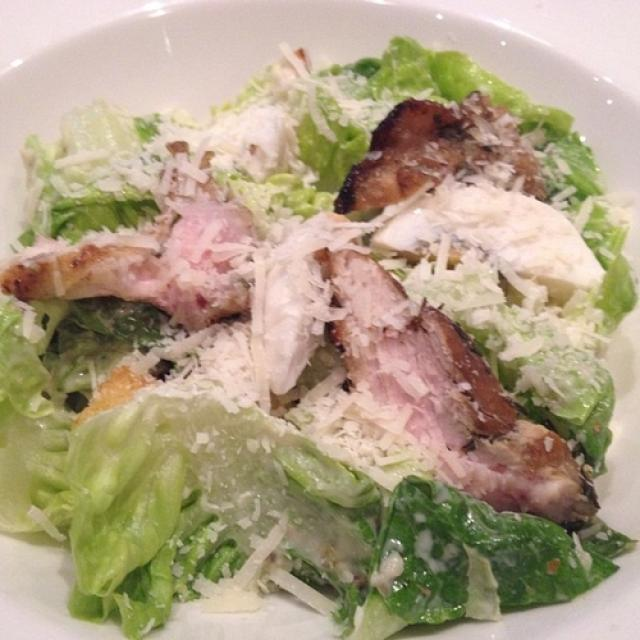蔬菜料理: (11, 32, 612, 631)
